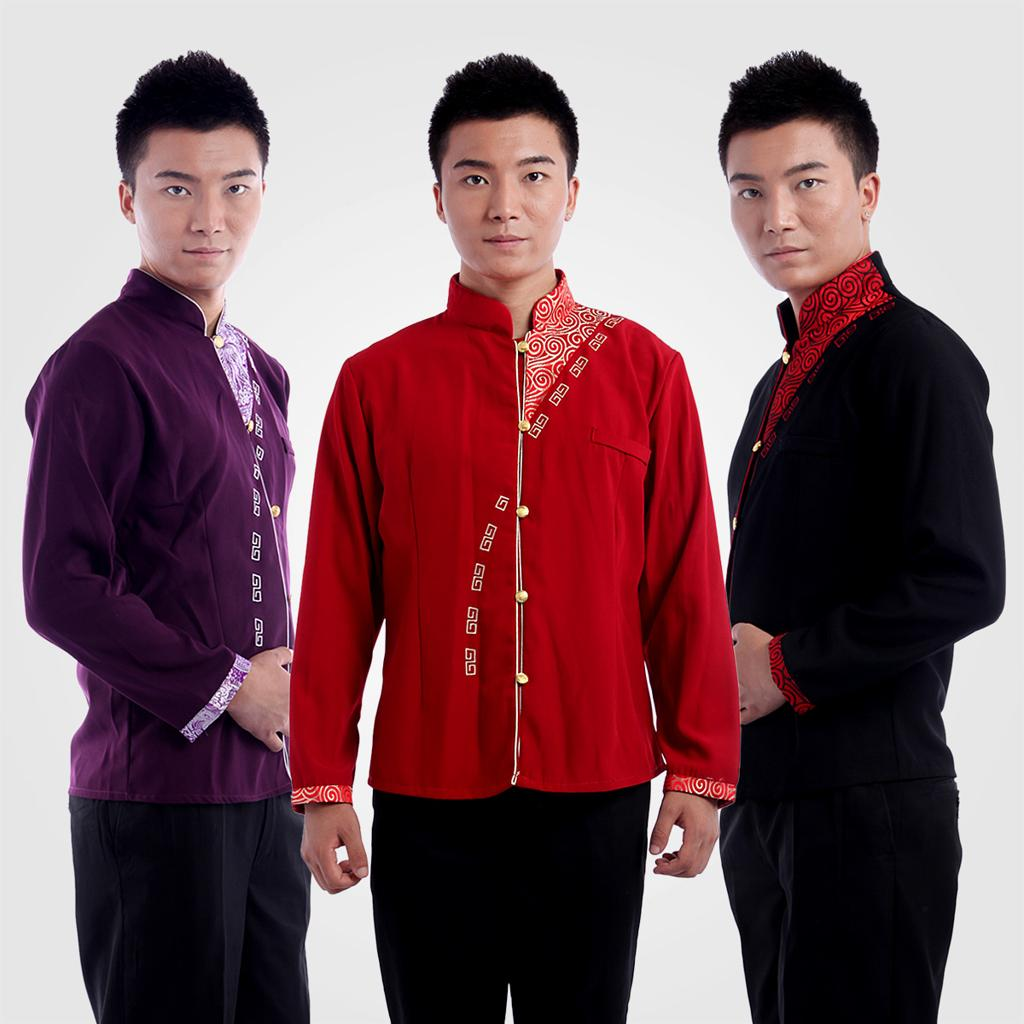face: (724, 118, 854, 288), (438, 106, 566, 278), (136, 118, 262, 282)
